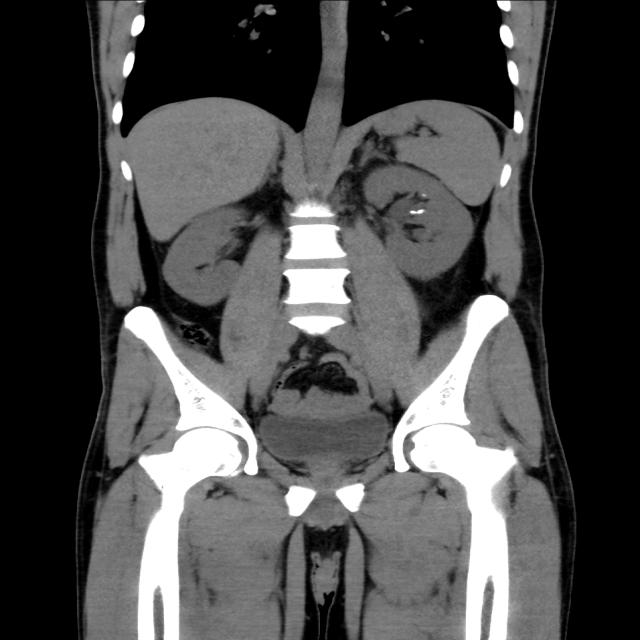kidneystone: (409, 209, 427, 215)
